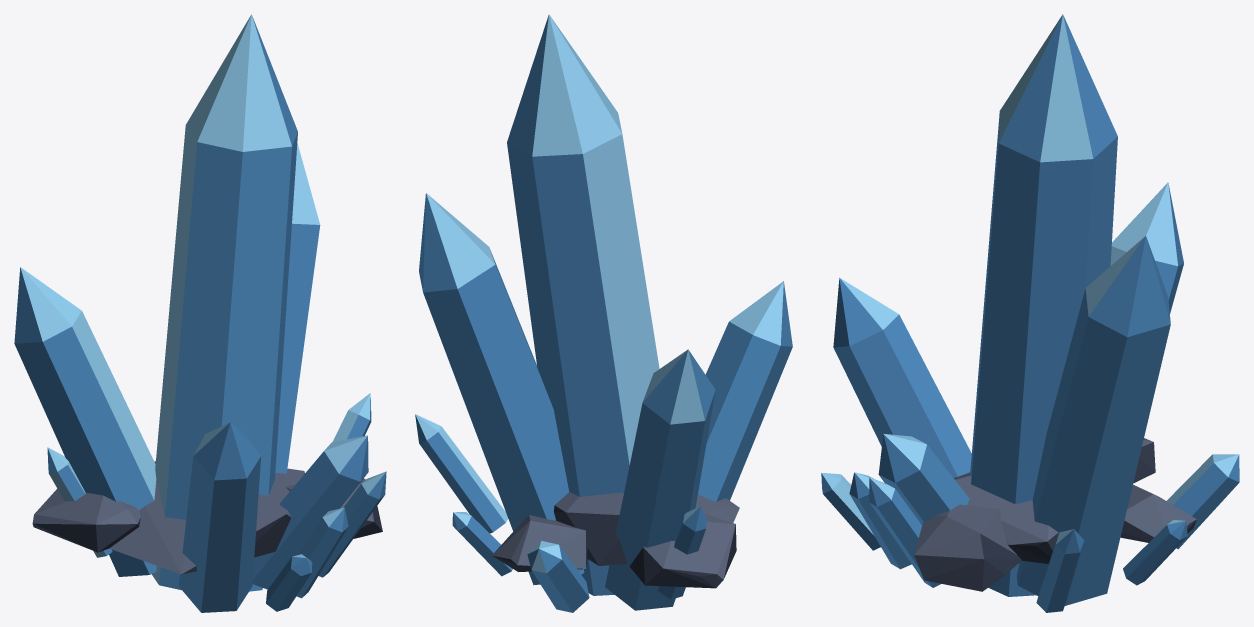
The model's file is ice_spire.glb.
3 views of the same model, side by side, from view 1: azimuth 30°, elevation 25°; view 2: azimuth 150°, elevation 25°; view 3: azimuth 270°, elevation 25° (orthographic). The views are drawn at different scales.
Parts seen in each view (by area): view 1: IceSpire; view 2: IceSpire; view 3: IceSpire.
Boxes of the visible parts, x1,y1,x2,y2 form: IceSpire: [14, 14, 386, 612]; IceSpire: [415, 14, 792, 612]; IceSpire: [821, 14, 1239, 612].
Bounding box in the file's own units: 3.58 × 5.83 × 3.75.
